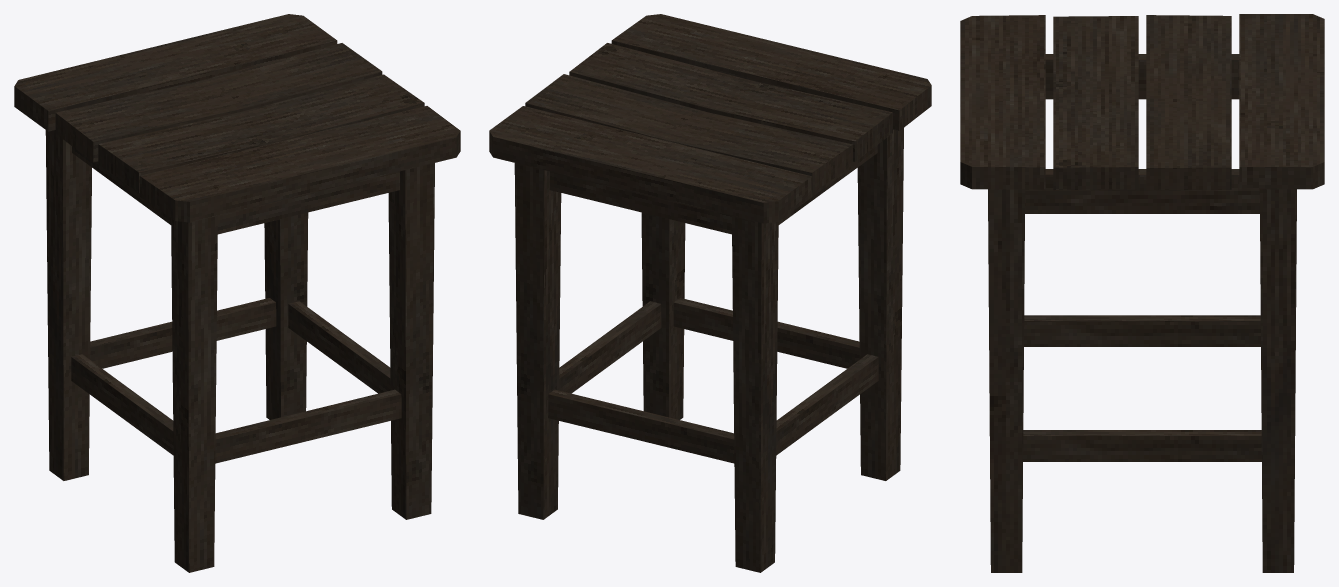
File: chair_mp_1_2.glb
The picture shows the model from 3 angles, left to right: view 1: azimuth 30°, elevation 25°; view 2: azimuth 150°, elevation 25°; view 3: azimuth 270°, elevation 25°; orthographic projection. The views are drawn at different scales.
Visible parts, largest first — view 1: chair_mp_1_2; view 2: chair_mp_1_2; view 3: chair_mp_1_2.
Part boxes in pixels (bbox=[...]): chair_mp_1_2: bbox=[14, 14, 460, 572]; chair_mp_1_2: bbox=[489, 14, 931, 572]; chair_mp_1_2: bbox=[960, 14, 1324, 572].
Bounding box in the file's own units: 0.4707 × 0.594 × 0.47.
1 material, 1 textured.
